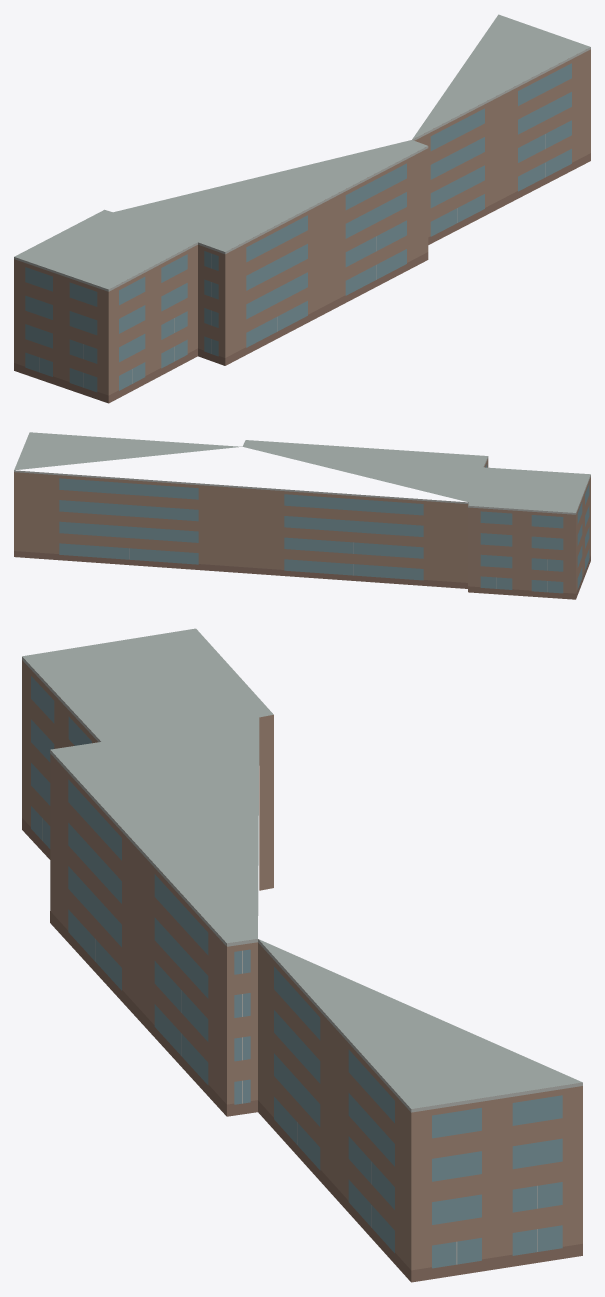
Rendered from survey-upis-32841823.glb.
3 renders of one model, top to bottom at view 1: azimuth 30°, elevation 25°; view 2: azimuth 150°, elevation 25°; view 3: azimuth 270°, elevation 25°, orthographic. The views are drawn at different scales.
Visible parts, largest first — view 1: survey-upis-32841823.tmp; view 2: survey-upis-32841823.tmp; view 3: survey-upis-32841823.tmp.
Boxes of the visible parts, x1,y1,x2,y2 form: survey-upis-32841823.tmp: (14,14,590,403); survey-upis-32841823.tmp: (14,432,590,599); survey-upis-32841823.tmp: (22,628,582,1282).
Size of the model in its own units: 72.57 by 12.2 by 35.8.
